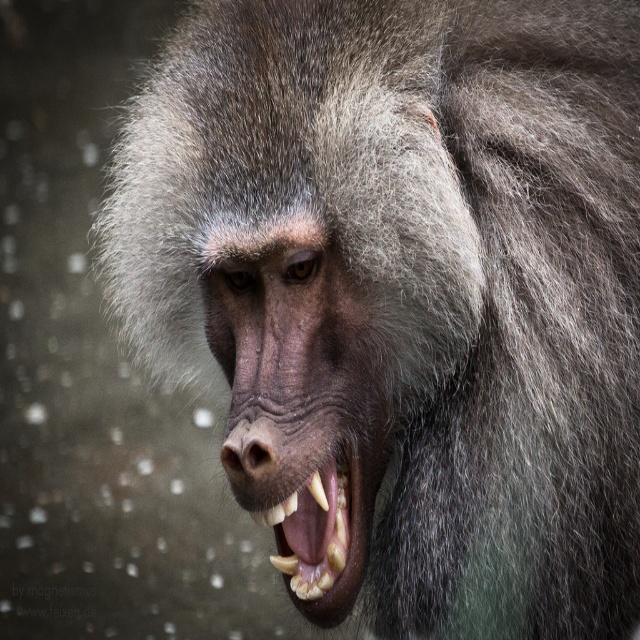Monkey: (81, 0, 640, 640)
